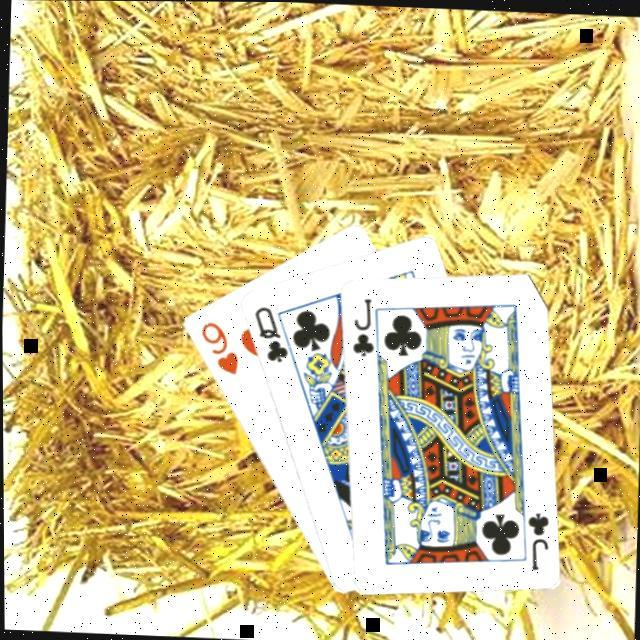9H: (194, 318, 240, 378)
JC: (520, 508, 550, 573), (346, 294, 376, 358)
QC: (247, 302, 290, 366)
